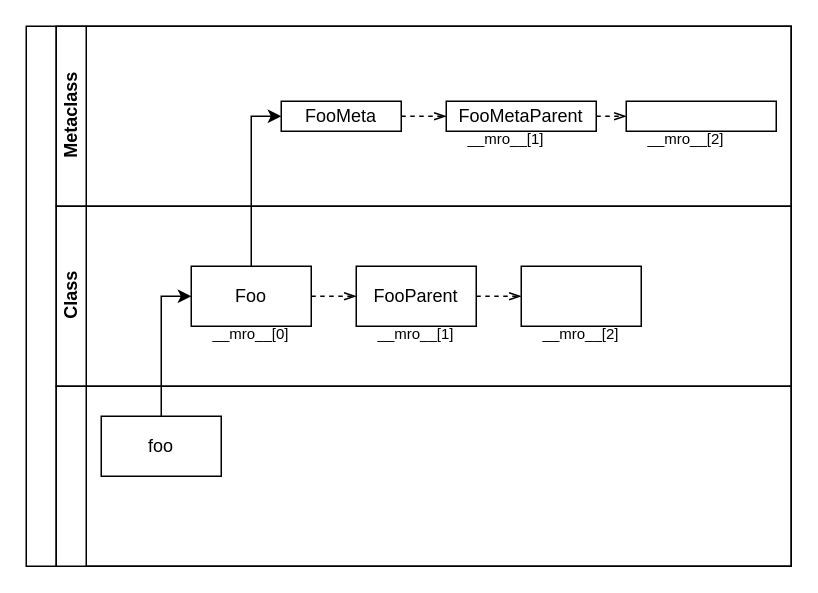
This 818x593 diagram has some shape labels left out. The box of each missing label's shape, as (x1, y1, x2, y2) in pixels:
Instance: (55, 385, 791, 566)
object: (520, 265, 641, 326)
type: (625, 100, 776, 131)
